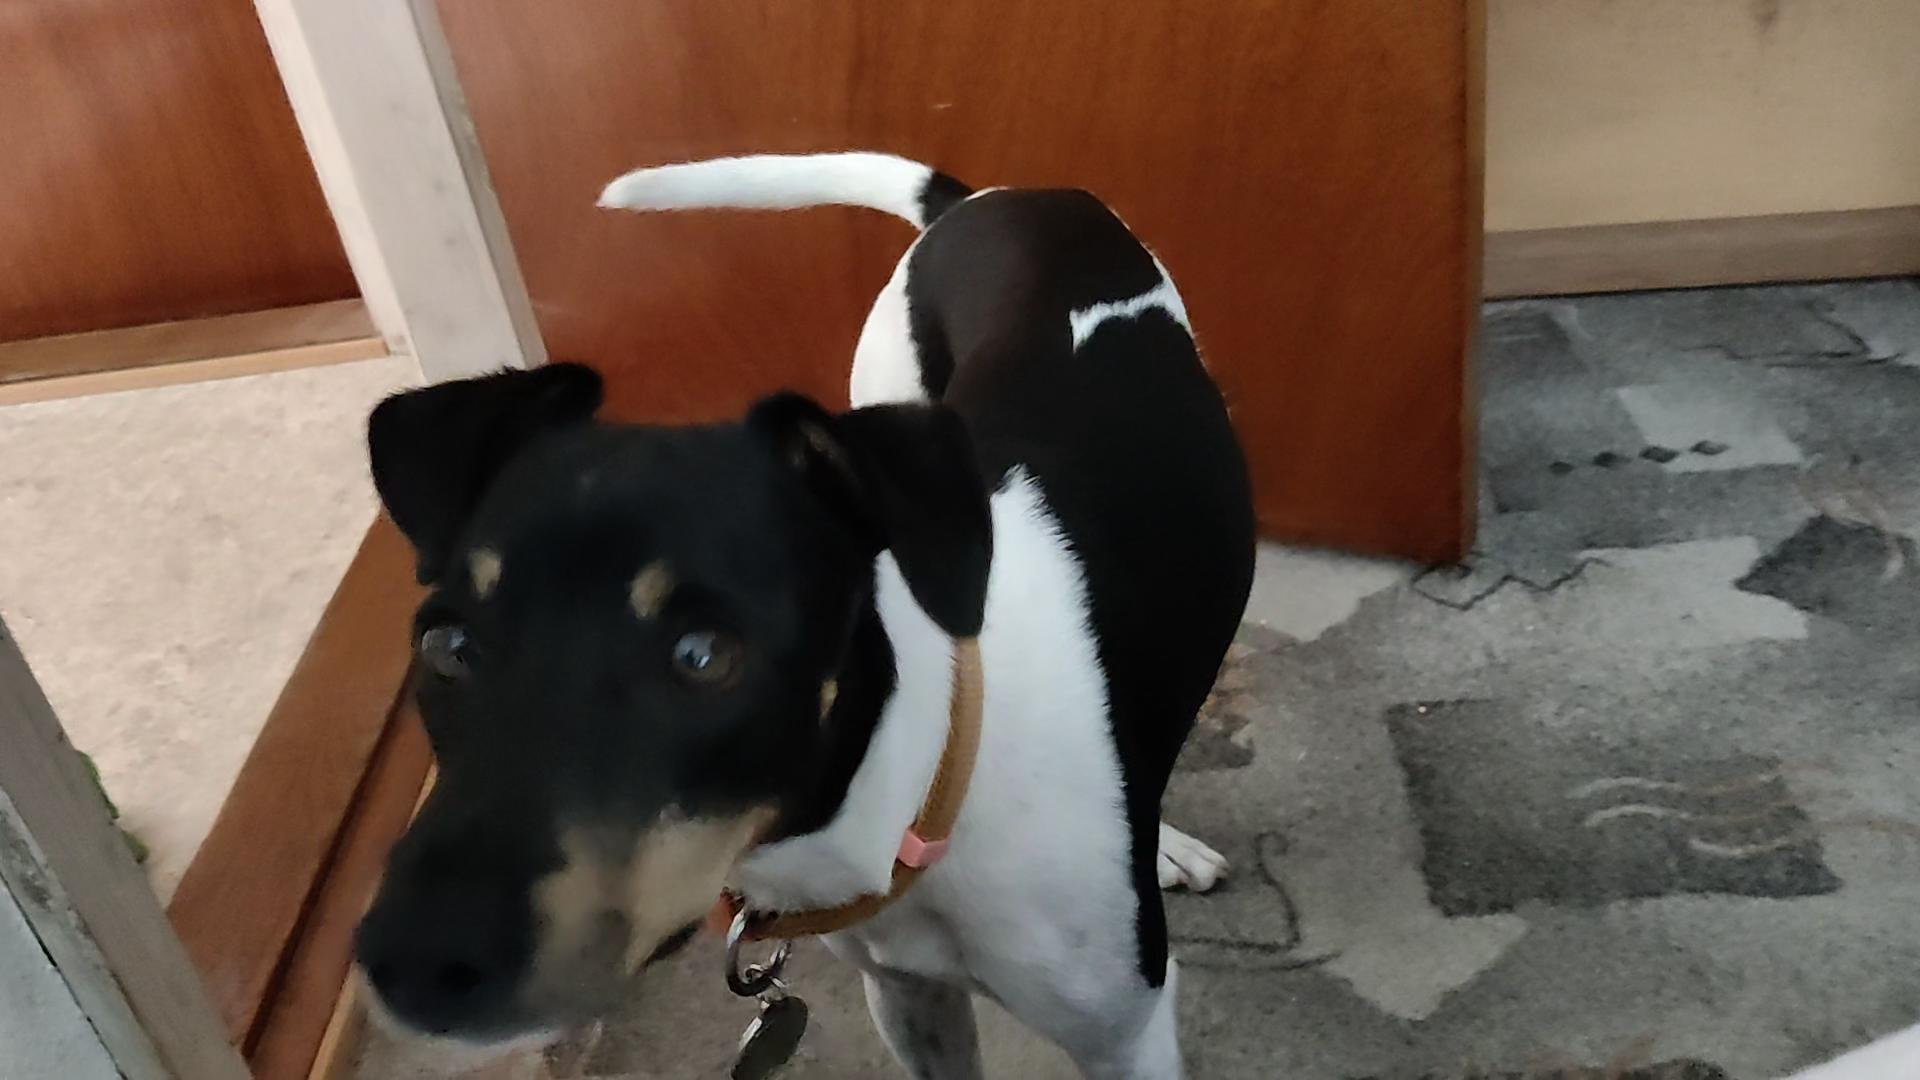Dog: (319, 100, 1338, 1079)
